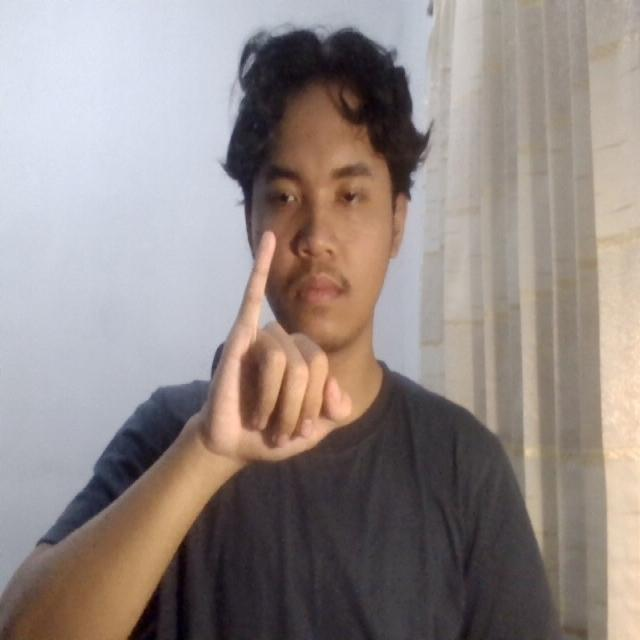Hello: (168, 215, 382, 484)
